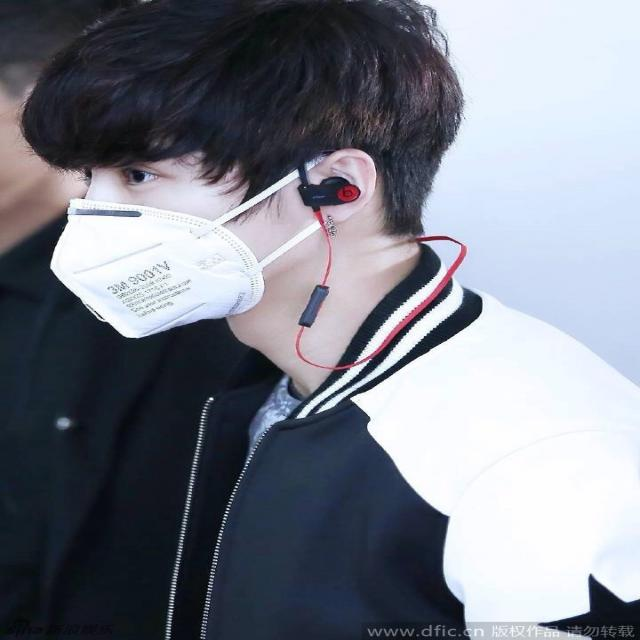mask: (64, 104, 255, 321)
